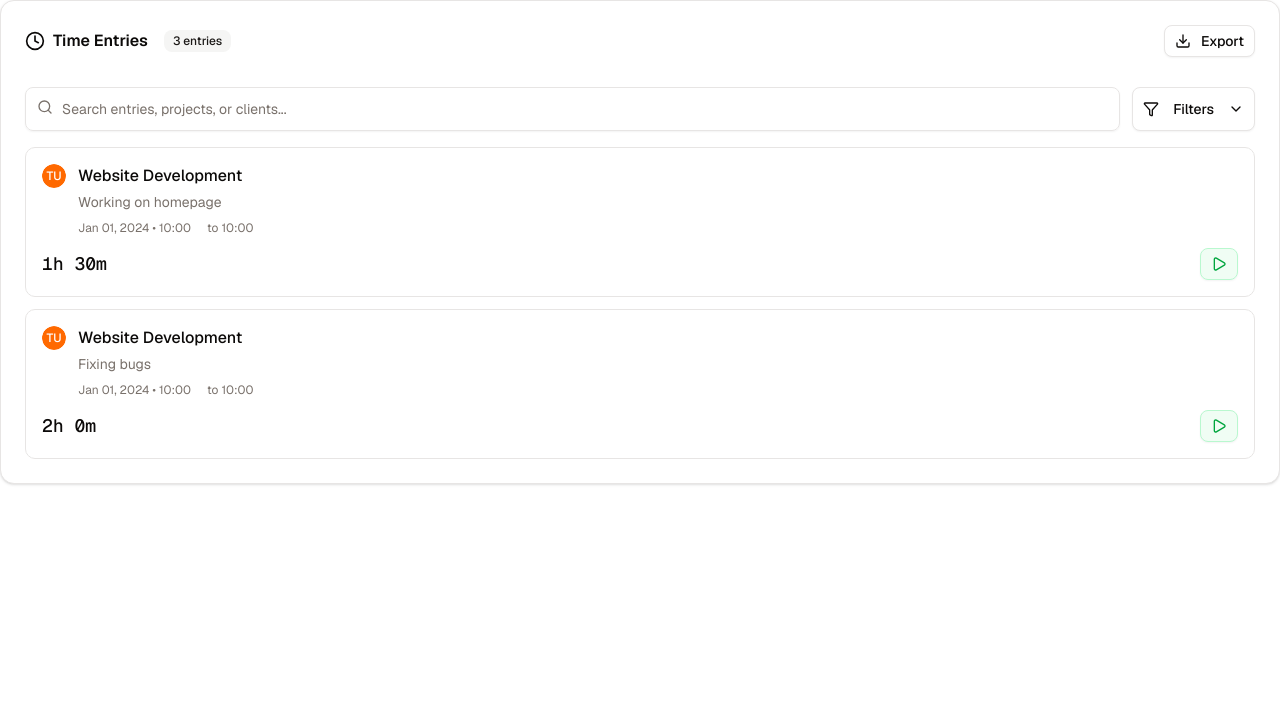
Test: EnhancedTimeEntriesList › in full mode › should offer "All users" to roles that may view all timesheets
Click the button "Filters". click: [1194, 109]
box: [1132,87,1255,131]
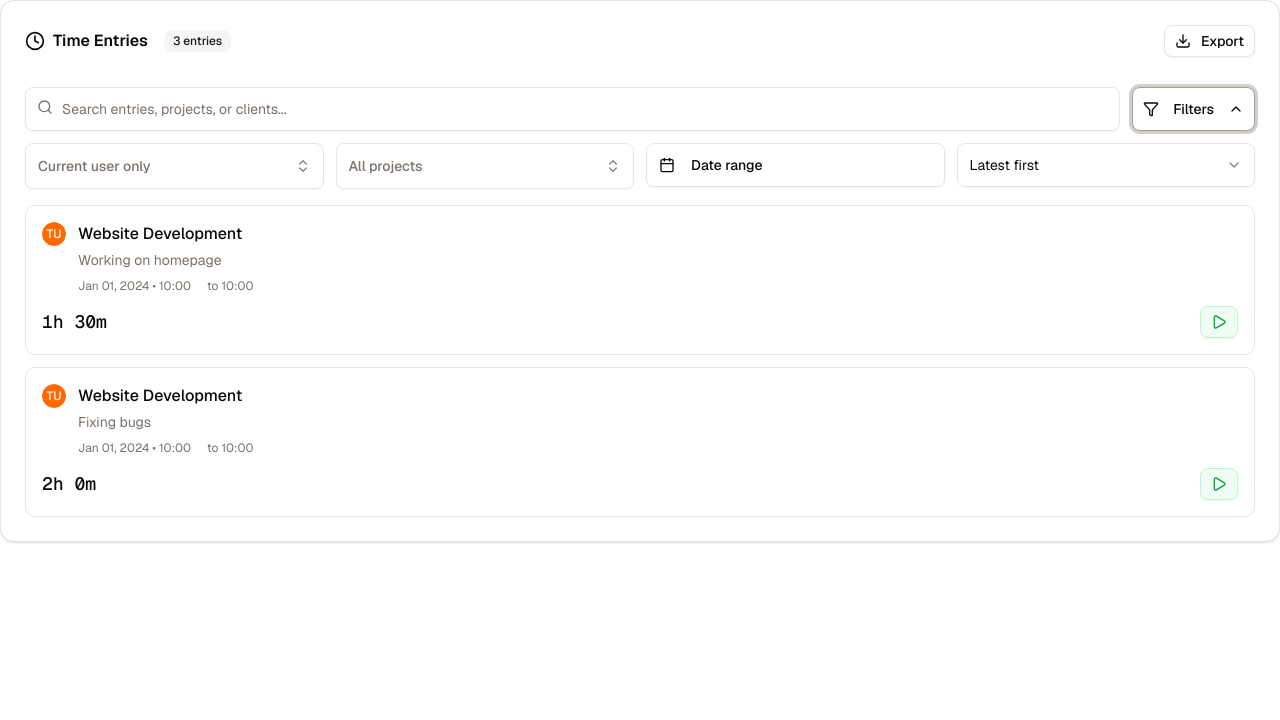
Click the dropdown "Current user only". click: [94, 166]
box: [25,143,324,189]
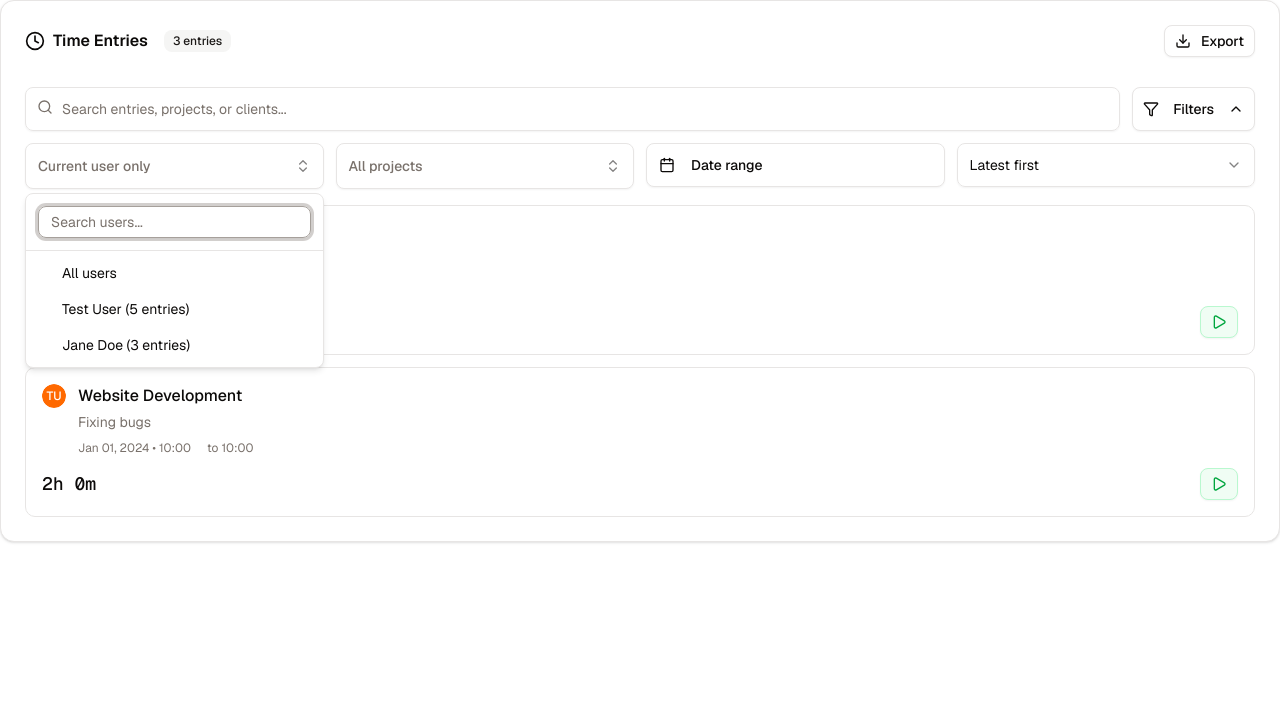
Result: the text "All users" is shown at [62,264,117,282]
